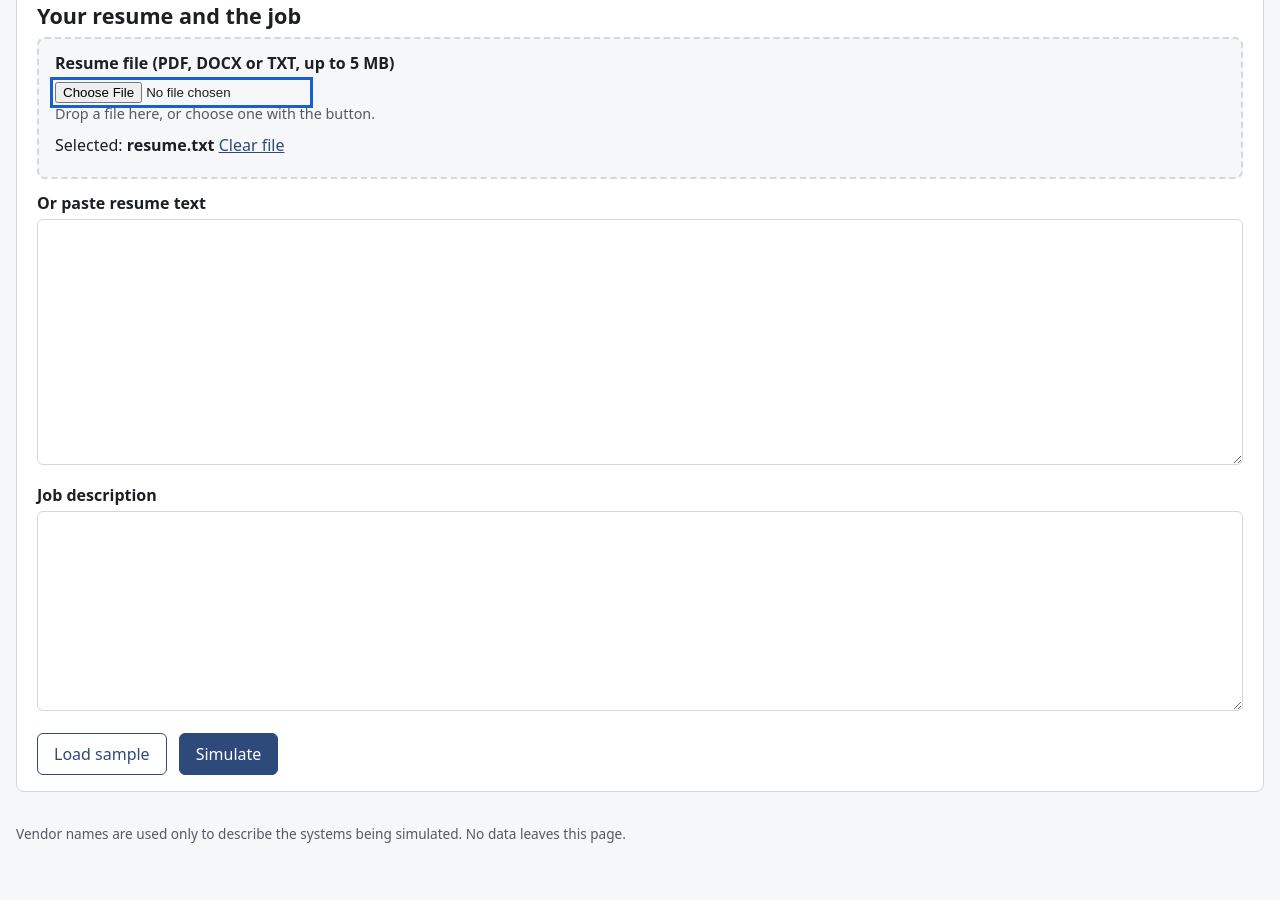
Test case: results (criterion 5, UI part) › Load sample clears a chosen file
Earlier steps of the test are not shown.
(page scrolled)
Expected: the text "resume.txt" is shown, [127,134,214,156]
Click the button "Load sample" at (102, 754), box [37,733,167,775]
(page scrolled)
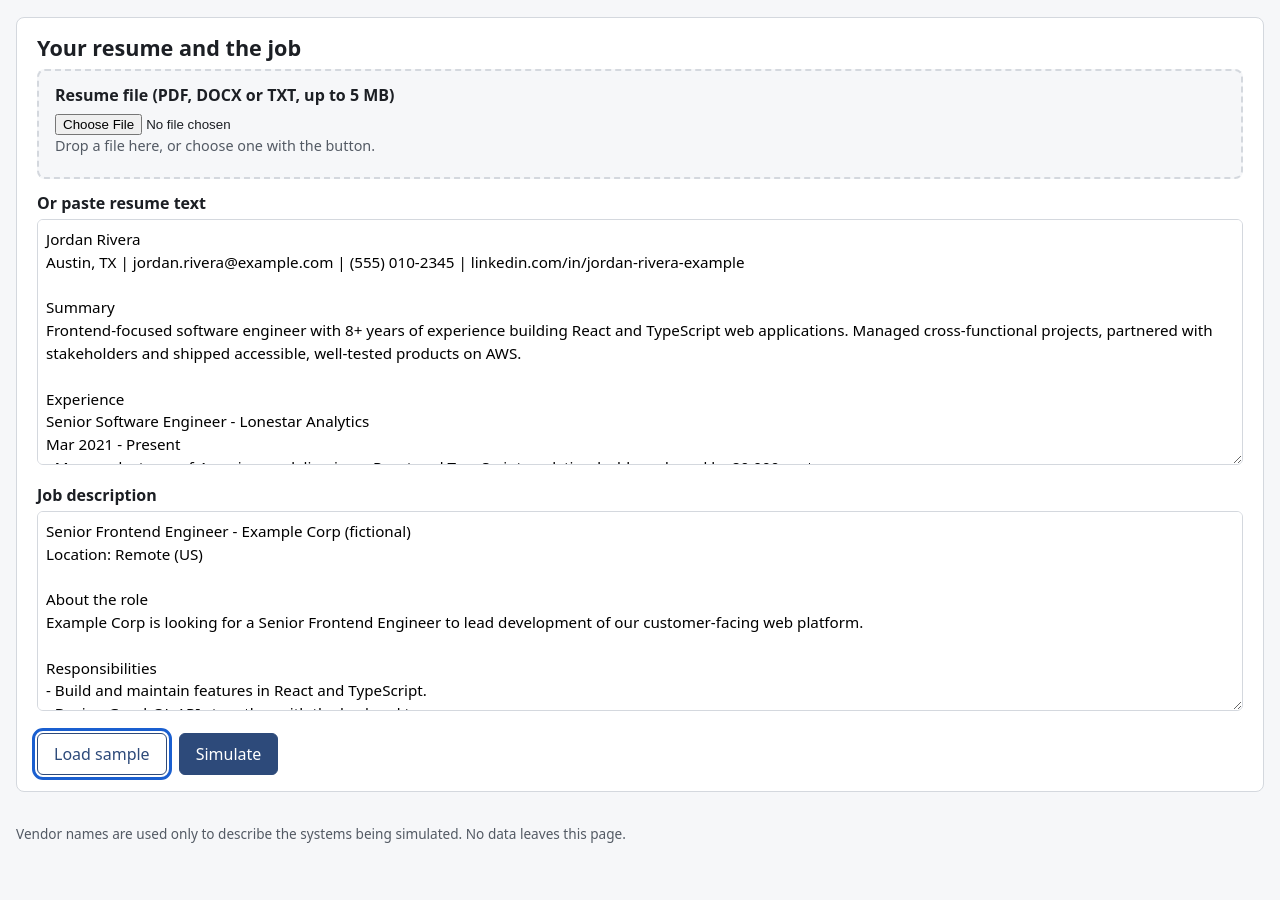
Result: the text "resume.txt" is gone
